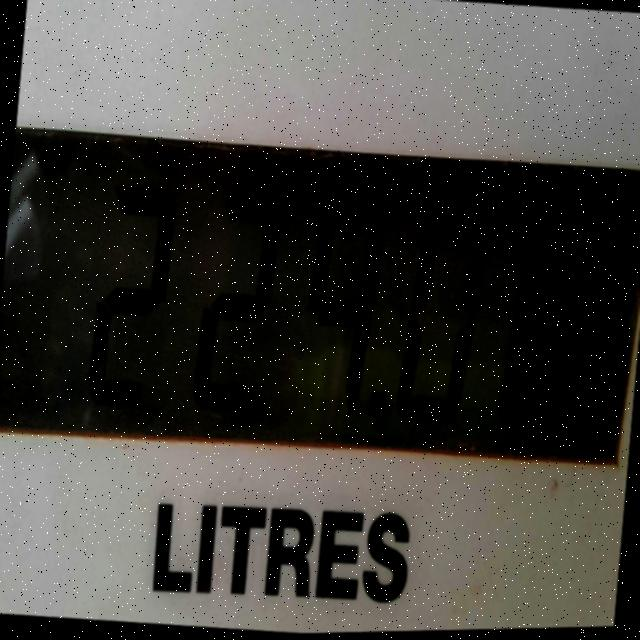.: (370, 384, 388, 419)
0: (496, 212, 594, 445), (389, 205, 489, 427)
2: (84, 176, 181, 415), (192, 189, 284, 423)
4: (302, 202, 384, 413)
